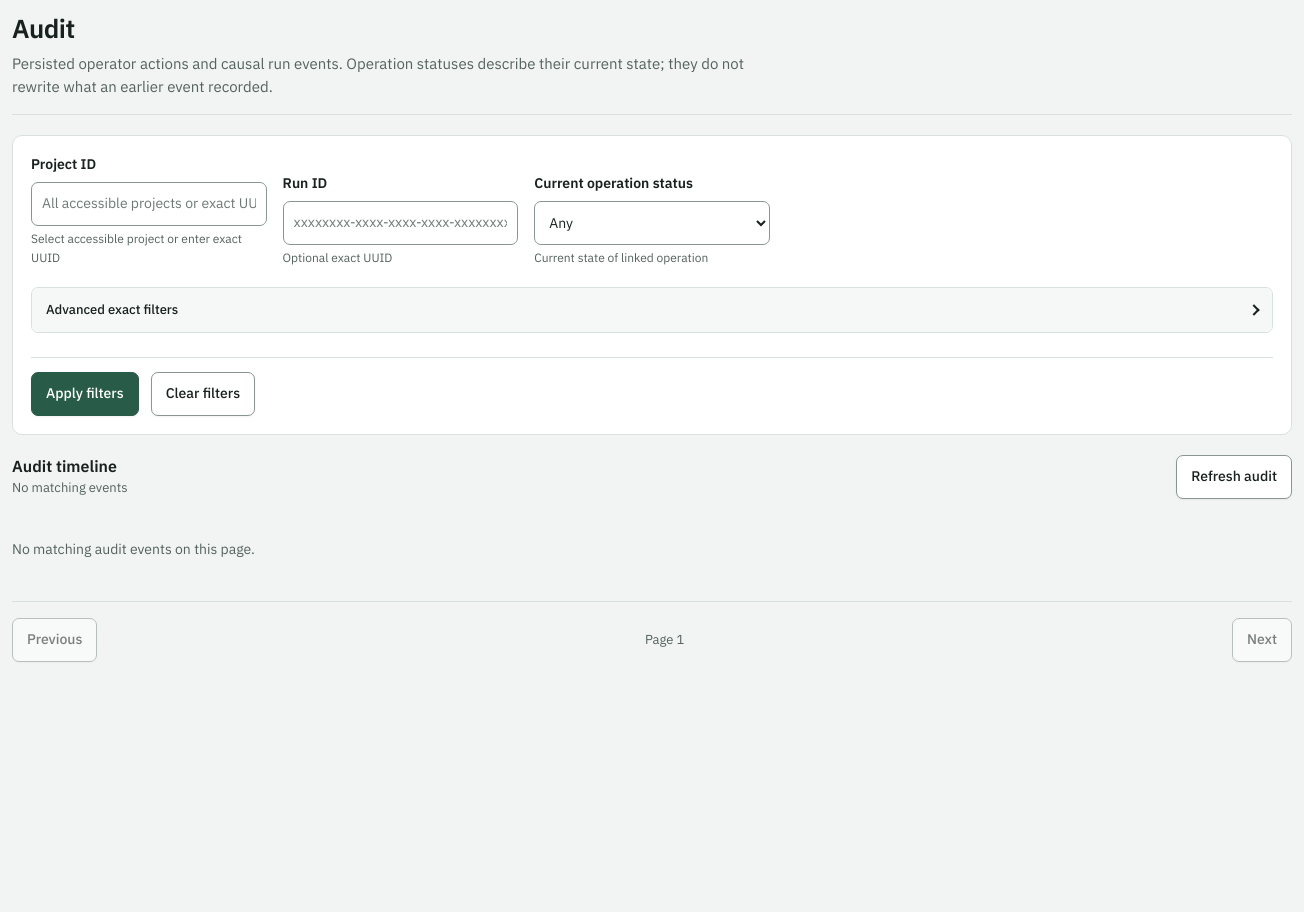
Test: audit resets controls, query and pagination when clearing filters
In the field labelled "Run ID": (400, 223) top-left (283, 201), bottom-right (518, 245), type "11111111-1111-4111-8111-111111111111"
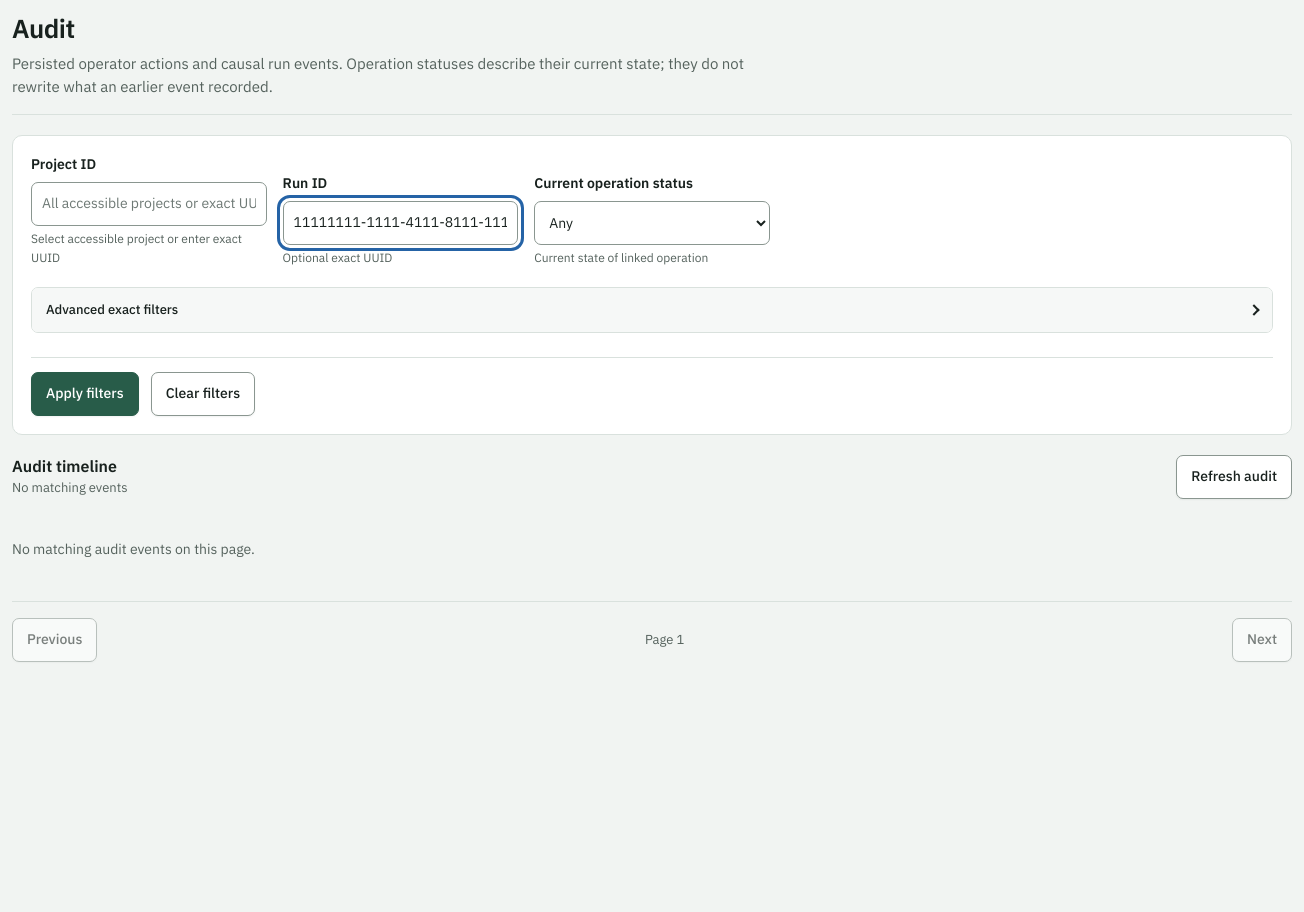
Click the button "Apply filters": (85, 394) top-left (31, 372), bottom-right (139, 416)
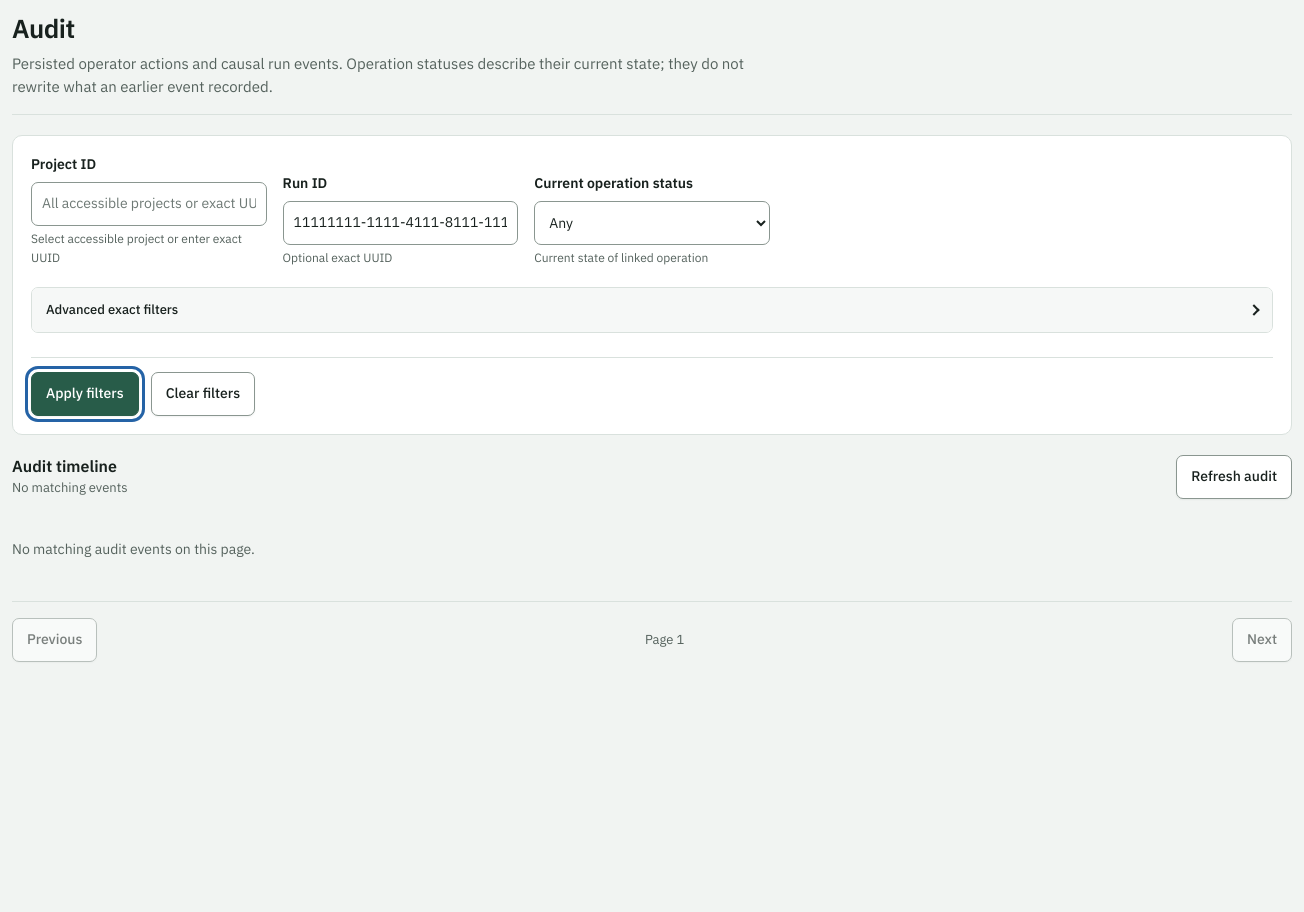
Click the button "Clear filters": (203, 394) top-left (151, 372), bottom-right (255, 416)
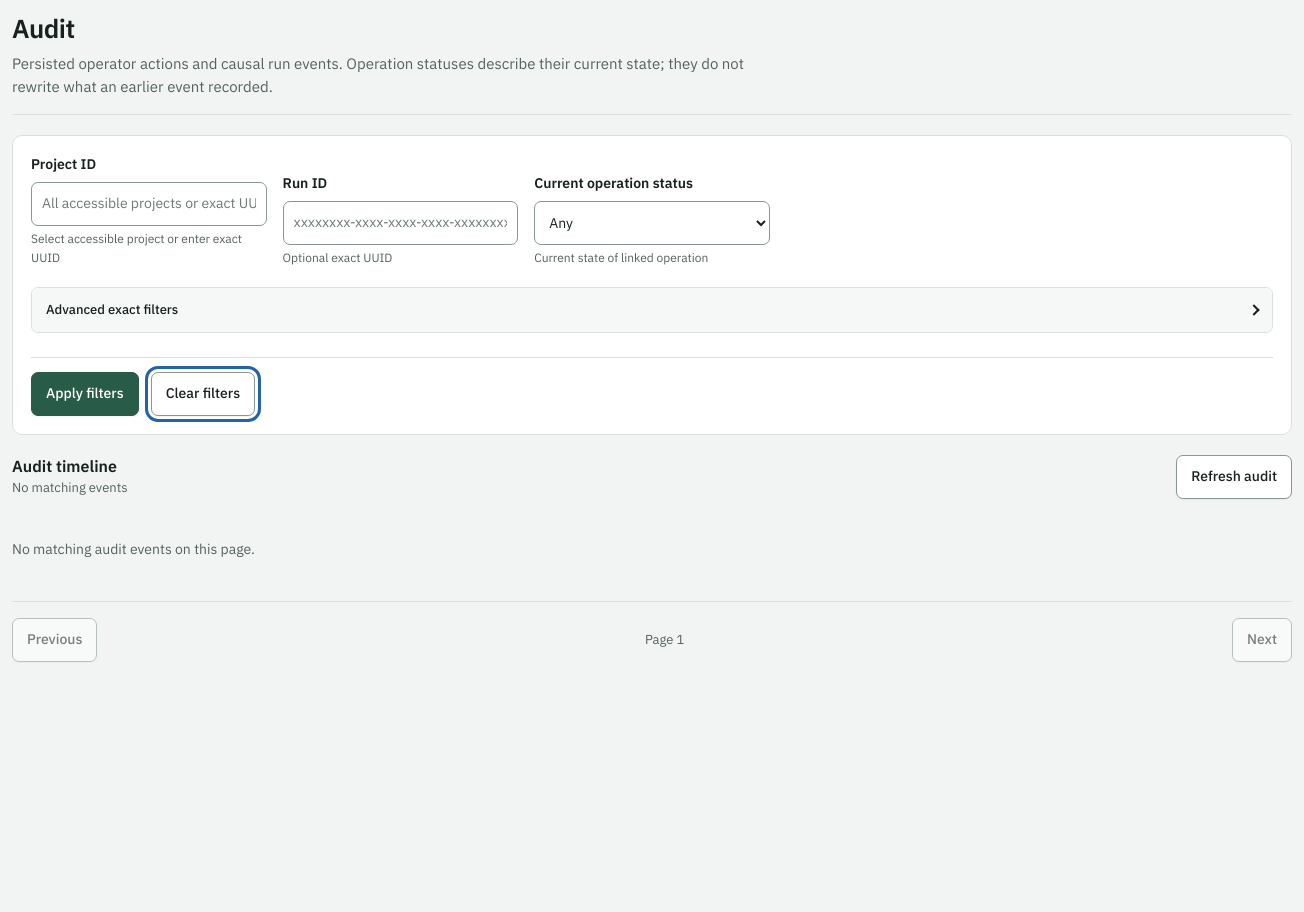
Check: the field labelled "Run ID" is empty, box top-left (283, 201), bottom-right (518, 245)
